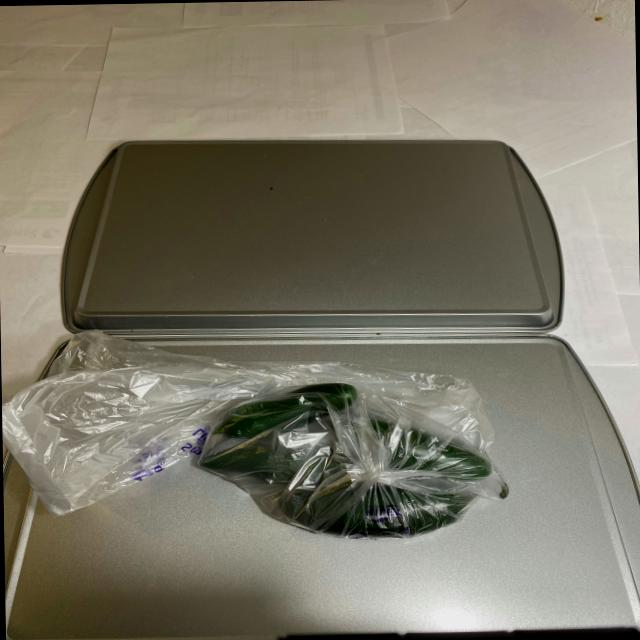chilli: (181, 372, 521, 536)
